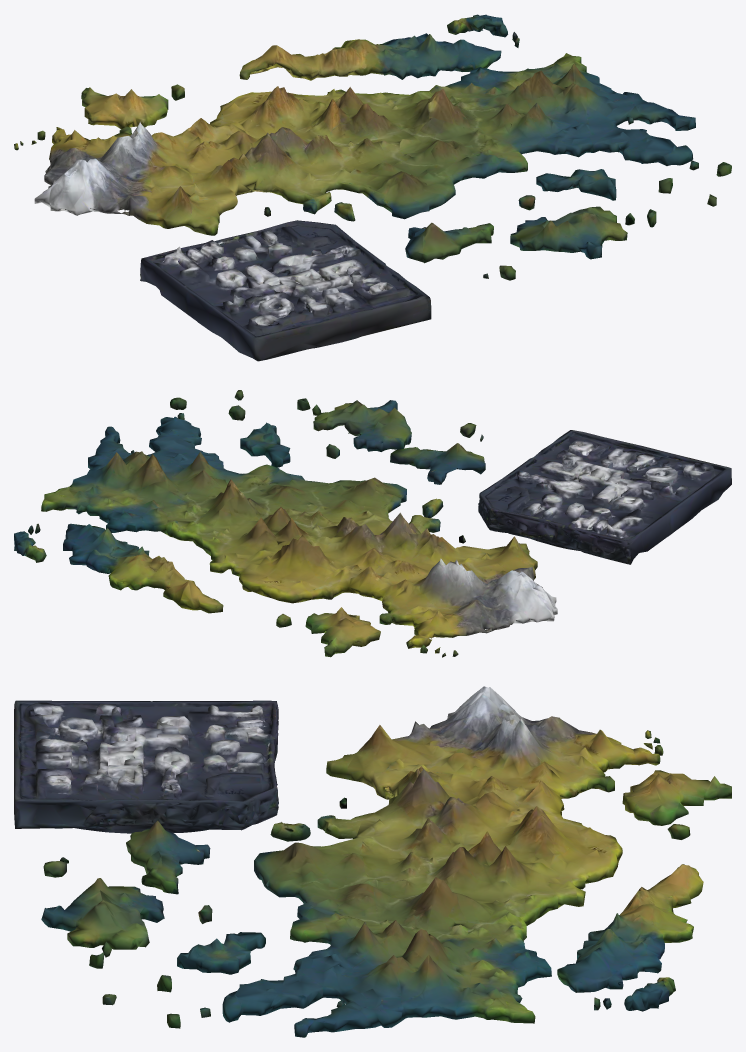
The model's file is mx_dr_dio_rift.glb.
3 renders of one model, top to bottom at view 1: azimuth 30°, elevation 25°; view 2: azimuth 150°, elevation 25°; view 3: azimuth 270°, elevation 25°, orthographic. The views are drawn at different scales.
Visible parts, largest first — view 1: Mesh_0; view 2: Mesh_0; view 3: Mesh_0.
Boxes of the visible parts, x1,y1,x2,y2 form: Mesh_0: [14, 14, 731, 361]; Mesh_0: [14, 390, 731, 657]; Mesh_0: [14, 686, 731, 1037].
Size of the model in its own units: 1.94 by 0.2107 by 1.78.
Materials: 1 (1 with a texture image).
